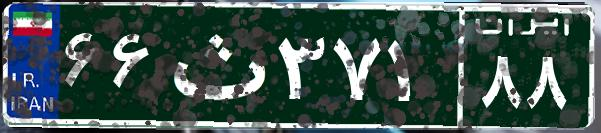1: (385, 28, 445, 110)
3: (273, 28, 330, 110)
6: (57, 26, 110, 107), (110, 28, 158, 105)
7: (330, 28, 385, 110)
8: (475, 38, 525, 113), (525, 38, 570, 115)
ث: (158, 15, 273, 115)
